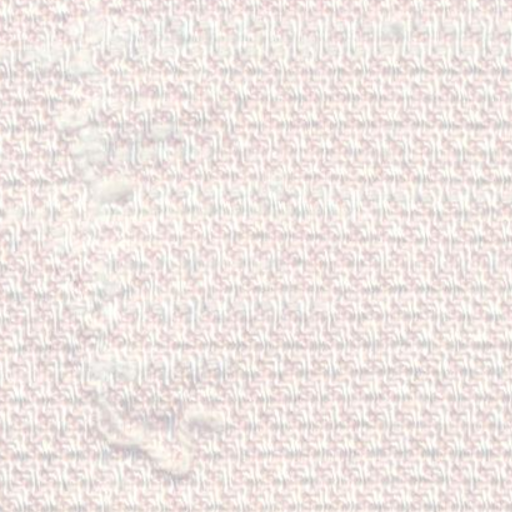DuanSha: (16, 15, 234, 478)
